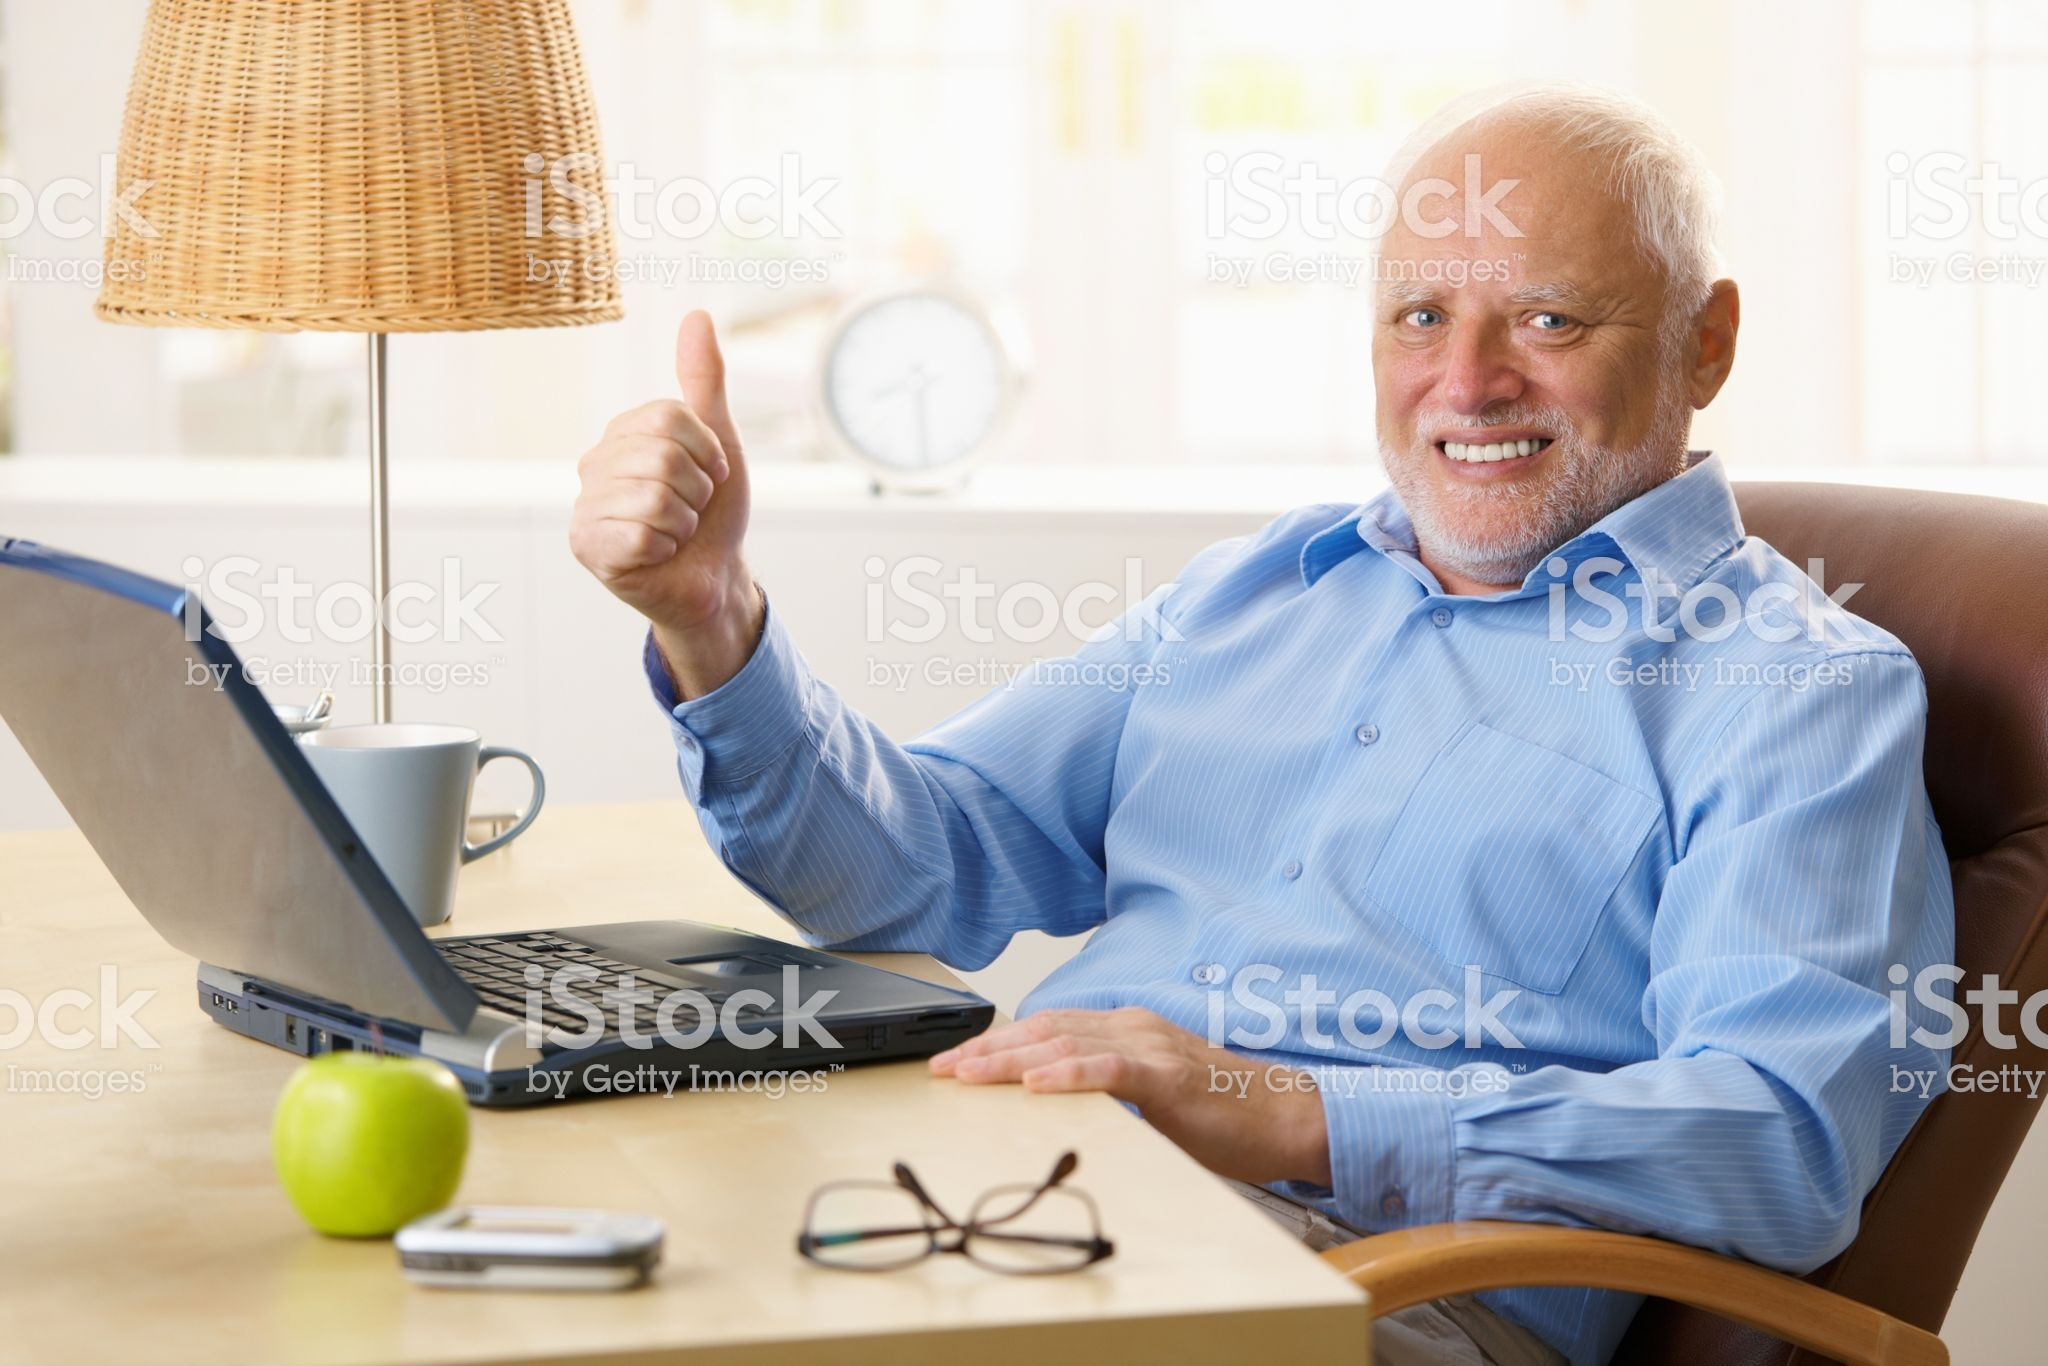thumbsup: (568, 308, 728, 575)
